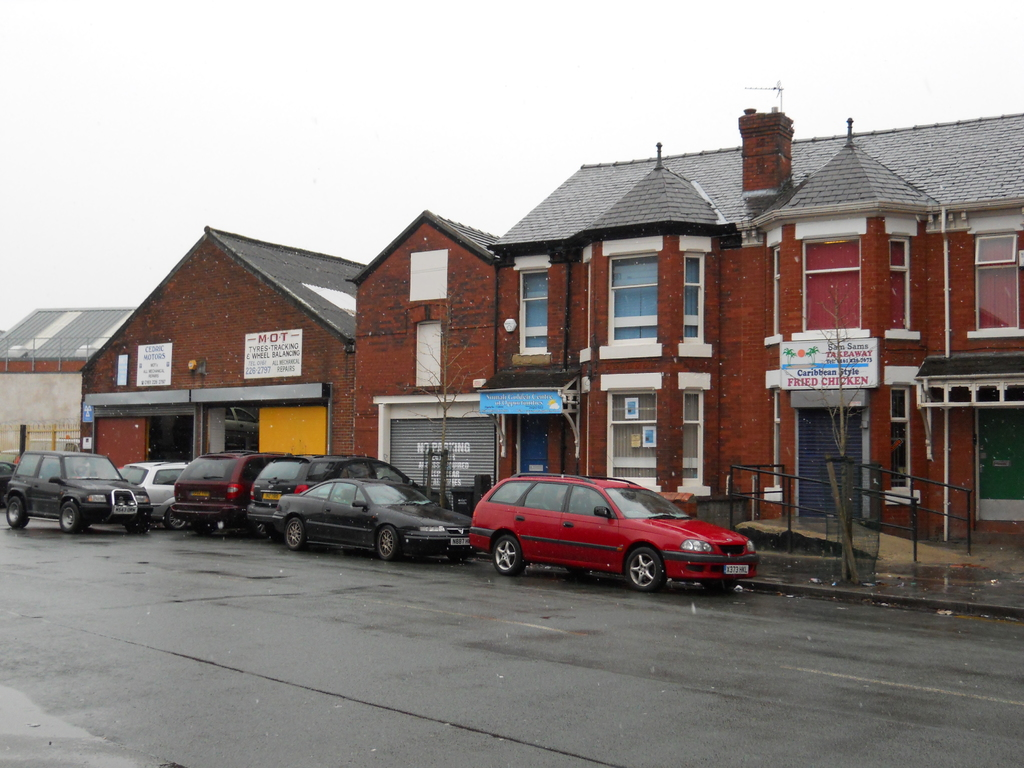Car: (0, 448, 760, 594), (5, 442, 470, 560), (464, 468, 760, 597)
